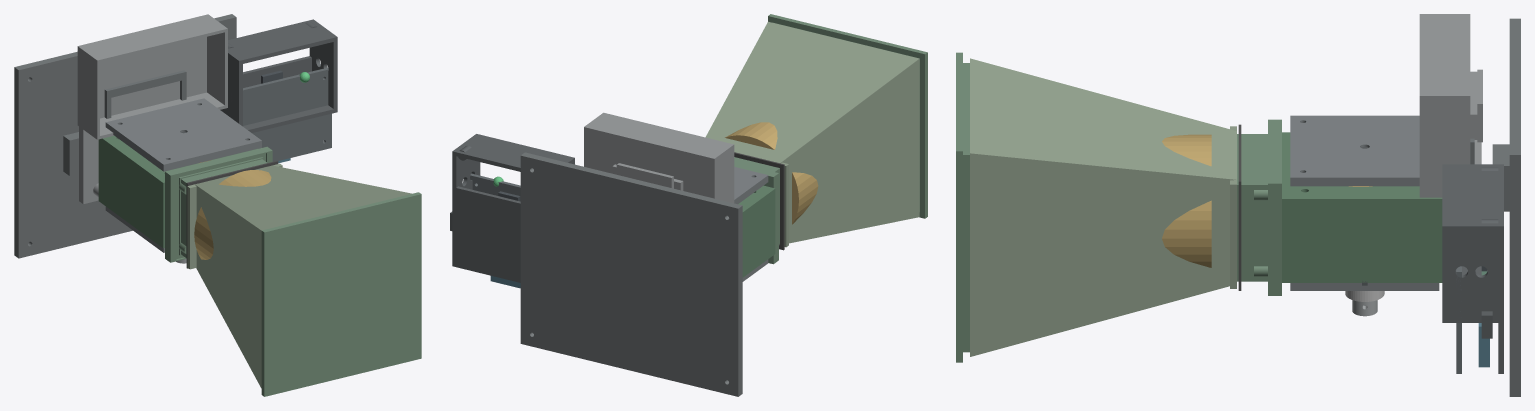
The model's file is TenderCells_Smart_Feeder_Interactive_v4.glb.
3 renders of one model, left to right at view 1: azimuth 30°, elevation 25°; view 2: azimuth 150°, elevation 25°; view 3: azimuth 270°, elevation 25°, orthographic. The views are drawn at different scales.
Visible parts, largest first — view 1: HopperLid, Hopper, BasePlate, FeedTrough, BearingSidePlate, ElectronicsEnclosure, ElectronicsLid, MeterHousing, HopperAdapter, FeedFill, LoadCellPlatform, TroughRail (+1 smaller); view 2: BasePlate, Hopper, FeedTrough, ElectronicsEnclosure, HopperLid, MeterHousing, FeedFill, HopperAdapter, BearingSidePlate, HopperGasket, ElectronicsLid; view 3: Hopper, MeterHousing, ElectronicsEnclosure, FeedTrough, BearingSidePlate, HopperAdapter, BasePlate, HopperLid, FeedFill, DriveSidePlate, HopperGasket.
Boxes of the visible parts, x1,y1,x2,y2 form: HopperLid: (261, 192, 421, 396); Hopper: (187, 163, 411, 388); BasePlate: (14, 14, 236, 258); FeedTrough: (77, 14, 227, 139); BearingSidePlate: (105, 98, 261, 171); ElectronicsEnclosure: (220, 19, 337, 132); ElectronicsLid: (231, 67, 331, 161); MeterHousing: (98, 135, 257, 248); HopperAdapter: (165, 146, 272, 262); FeedFill: (194, 170, 271, 259); LoadCellPlatform: (79, 126, 98, 204); TroughRail: (104, 70, 186, 118); BasePlate: (520, 152, 742, 396); Hopper: (705, 21, 919, 247); FeedTrough: (584, 112, 734, 203); ElectronicsEnclosure: (452, 134, 574, 282); HopperLid: (768, 14, 927, 218); MeterHousing: (738, 185, 775, 277); FeedFill: (725, 122, 818, 224); HopperAdapter: (734, 157, 779, 264); BearingSidePlate: (734, 167, 768, 204); HopperGasket: (734, 152, 784, 250); ElectronicsLid: (470, 173, 520, 201); Hopper: (970, 58, 1236, 356); MeterHousing: (1282, 132, 1442, 282); ElectronicsEnclosure: (1442, 164, 1503, 373); FeedTrough: (1419, 14, 1482, 197); BearingSidePlate: (1290, 115, 1419, 186); HopperAdapter: (1237, 119, 1281, 295); BasePlate: (1492, 18, 1520, 396); HopperLid: (956, 52, 969, 362); FeedFill: (1162, 134, 1211, 267); DriveSidePlate: (1290, 283, 1439, 290); HopperGasket: (1238, 124, 1241, 290).
Size of the model in its own units: 316 by 215 by 402.
